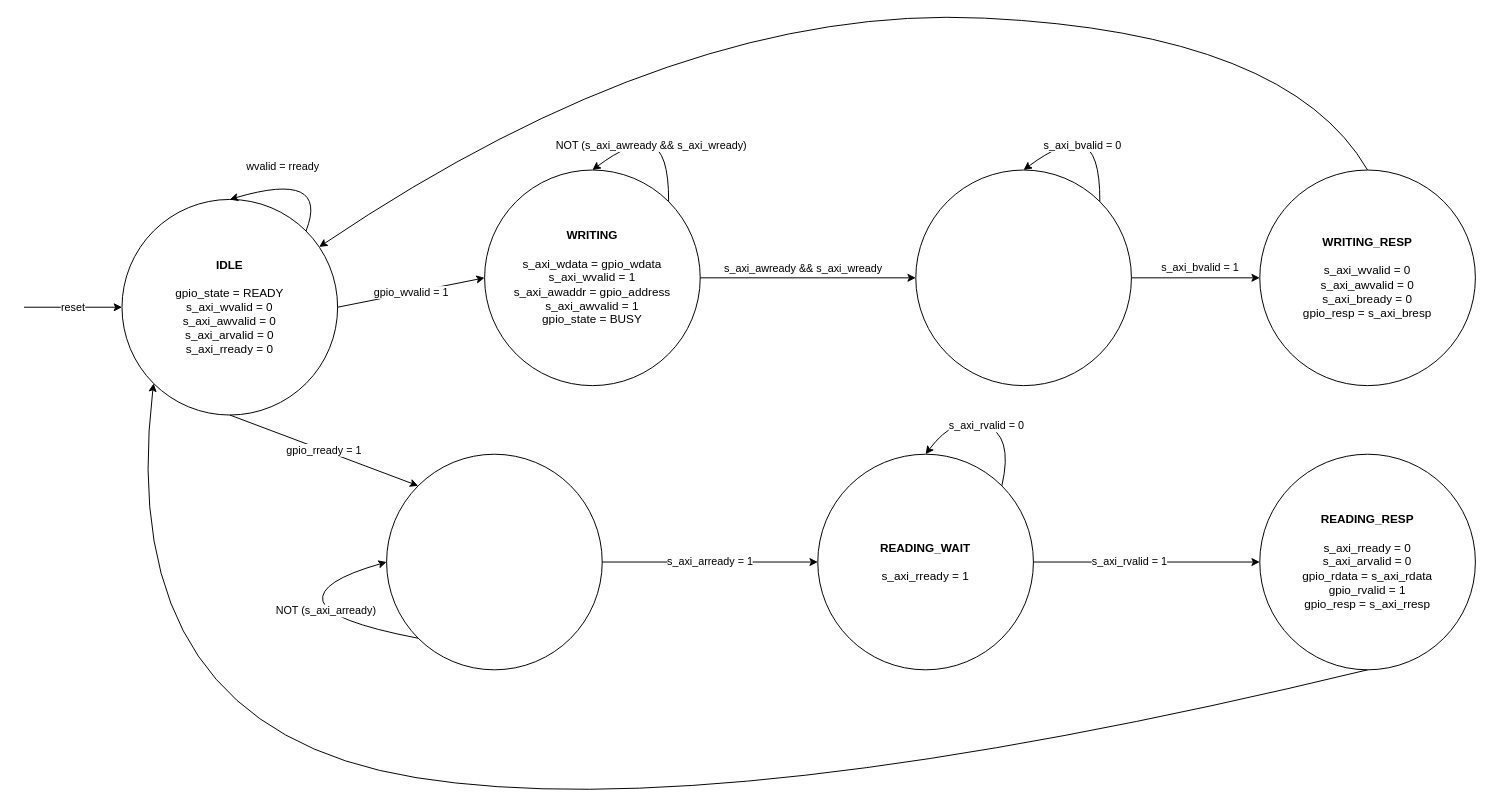
This 1493x807 diagram has some shape labels left out. Each missing label, with the centre of its shape:
"READING s_axi_araddr = gpio_address s_axi_arvalid = 1 gpio_state = BUSY" goes at (x=494, y=561).
"WRITING_WAIT s_axi_bready = 1" goes at (x=1023, y=277).
